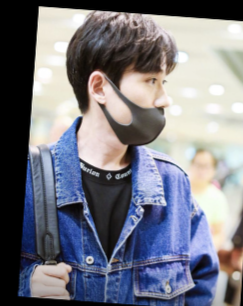mask_weared_incorrect: (108, 65, 170, 146)
